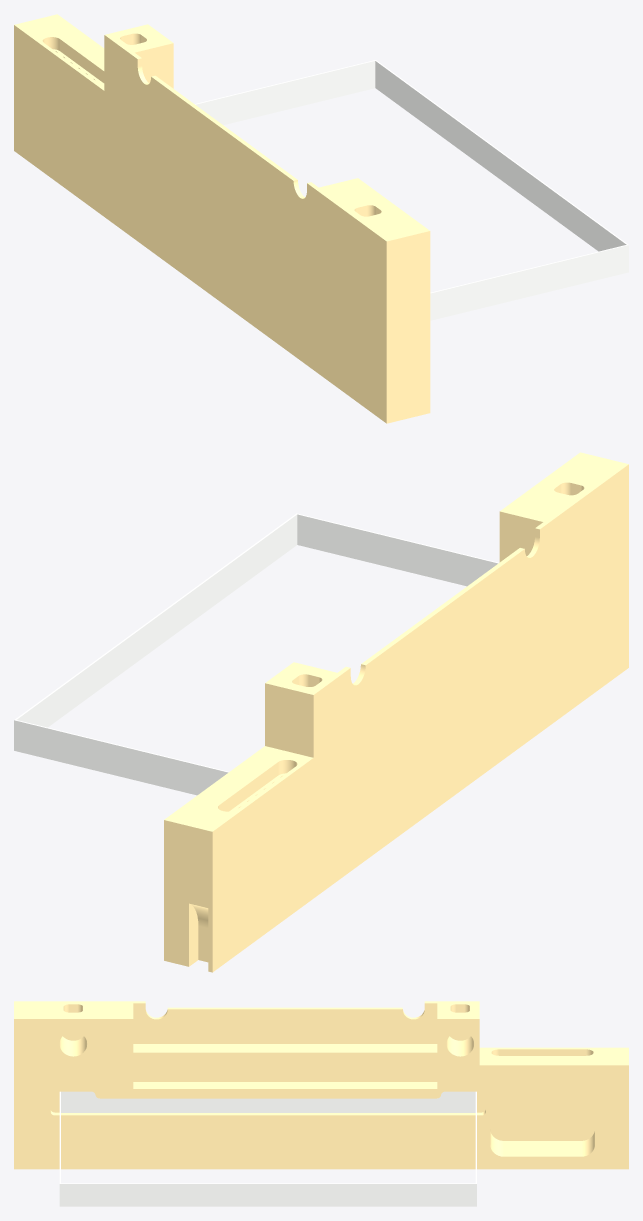
The model's file is wasteblock.gltf.
3 views of the same model, one above another, from view 1: azimuth 30°, elevation 25°; view 2: azimuth 150°, elevation 25°; view 3: azimuth 270°, elevation 25° (orthographic). The views are drawn at different scales.
Visible parts, largest first — view 1: $MergedNode_0; view 2: $MergedNode_0; view 3: $MergedNode_0.
Part boxes in pixels (x1,y1,x2,y2): $MergedNode_0: (14, 14, 628, 423); $MergedNode_0: (14, 452, 628, 972); $MergedNode_0: (14, 1001, 628, 1206).
Bounding box in the file's own units: 186 × 120 × 445.
